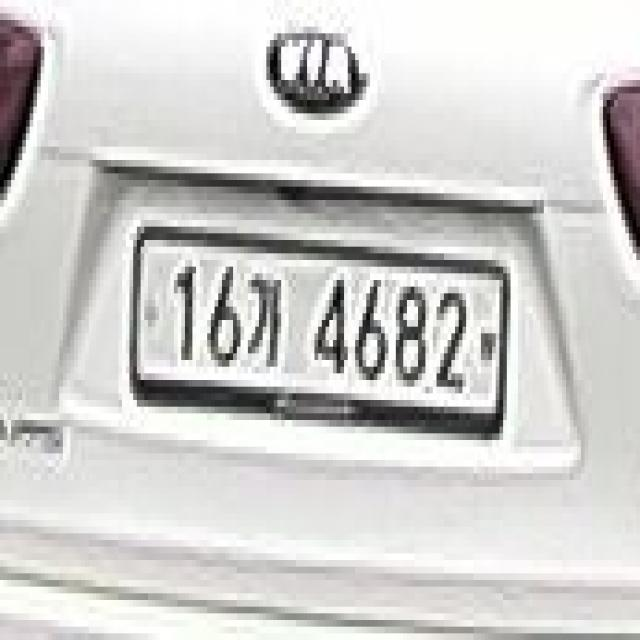1: (166, 247, 204, 380)
2: (433, 267, 473, 413)
4: (307, 260, 355, 400)
6: (207, 253, 248, 380), (355, 260, 389, 400)
8: (392, 273, 433, 400)
ga: (248, 260, 288, 387)
license_plate: (126, 220, 514, 447)
